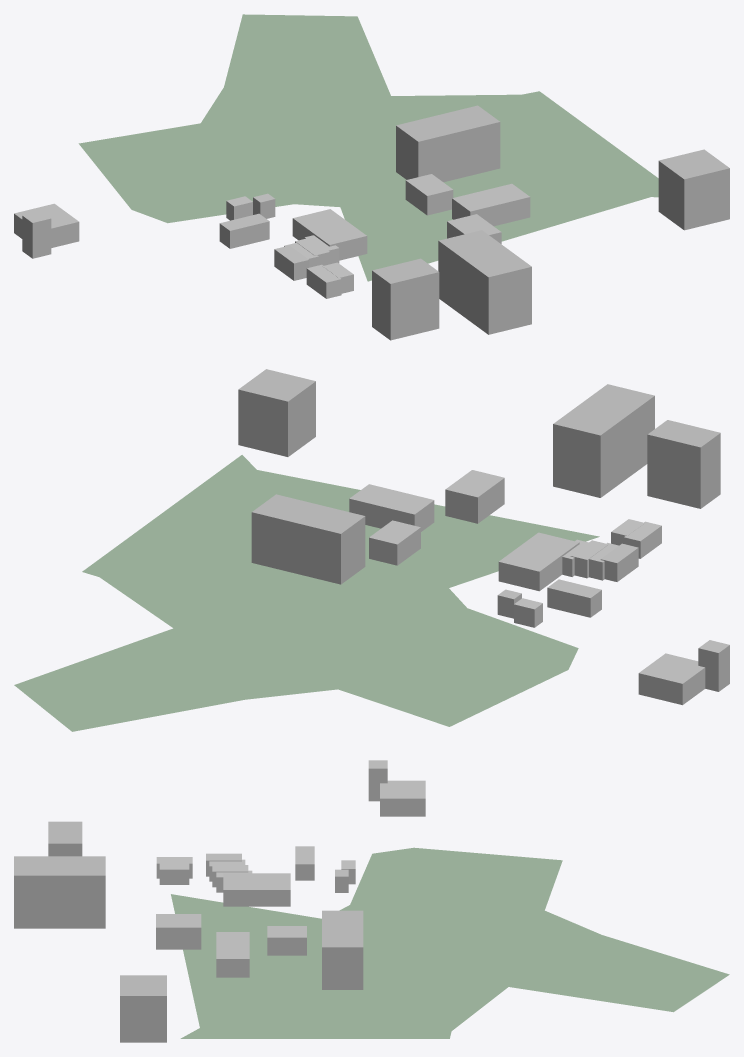
Rendered from 134_111_mid.glb.
3 renders of one model, top to bottom at view 1: azimuth 30°, elevation 25°; view 2: azimuth 150°, elevation 25°; view 3: azimuth 270°, elevation 25°, orthographic. The views are drawn at different scales.
Bounding box in the file's own units: 408 × 40.98 × 491.
